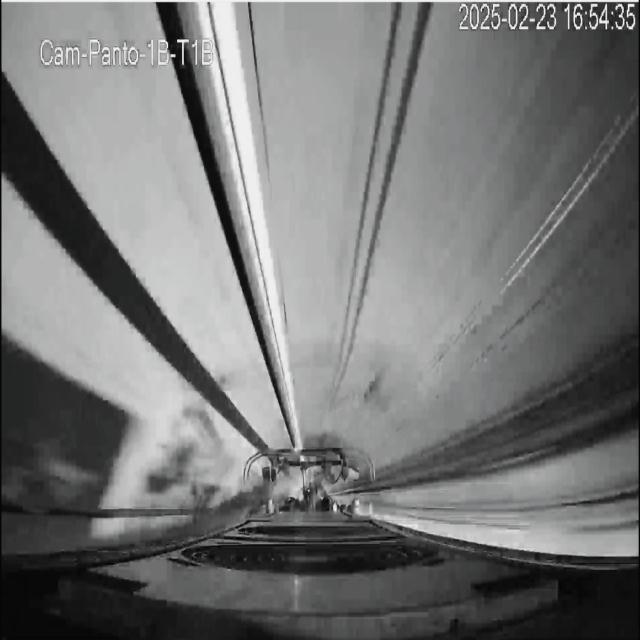Camera Stamp: (38, 32, 218, 69)
Date Stamp: (459, 3, 637, 33)
No - Spark: (245, 443, 372, 514)
